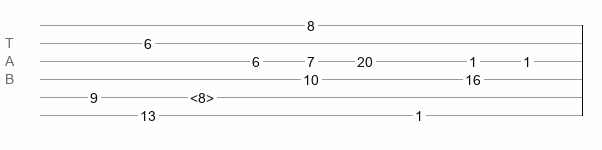1: (415, 108, 423, 118), (469, 54, 477, 64), (523, 54, 531, 64)
10: (303, 72, 319, 82)
13: (140, 108, 156, 118)
16: (465, 72, 481, 82)
20: (357, 54, 373, 64)
6: (144, 36, 152, 46), (252, 54, 260, 64)
7: (307, 54, 315, 64)
8: (307, 18, 315, 28)
9: (90, 90, 98, 100)
harmonic: (190, 90, 214, 100)
